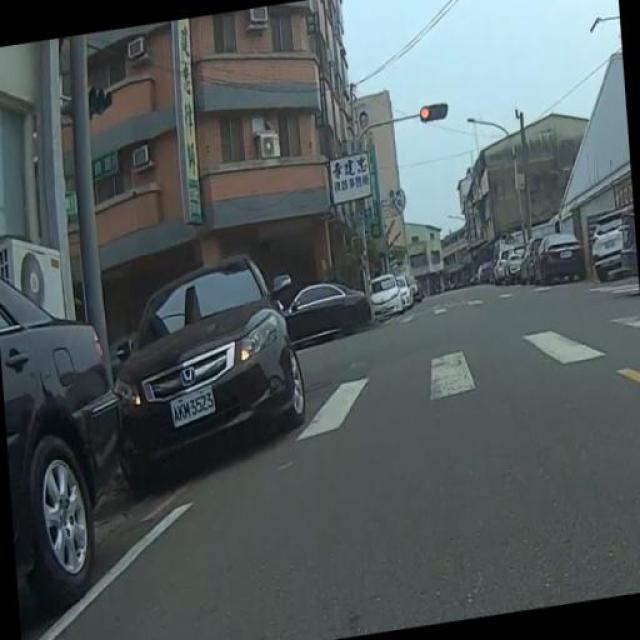illegalparking: (116, 226, 345, 489)
